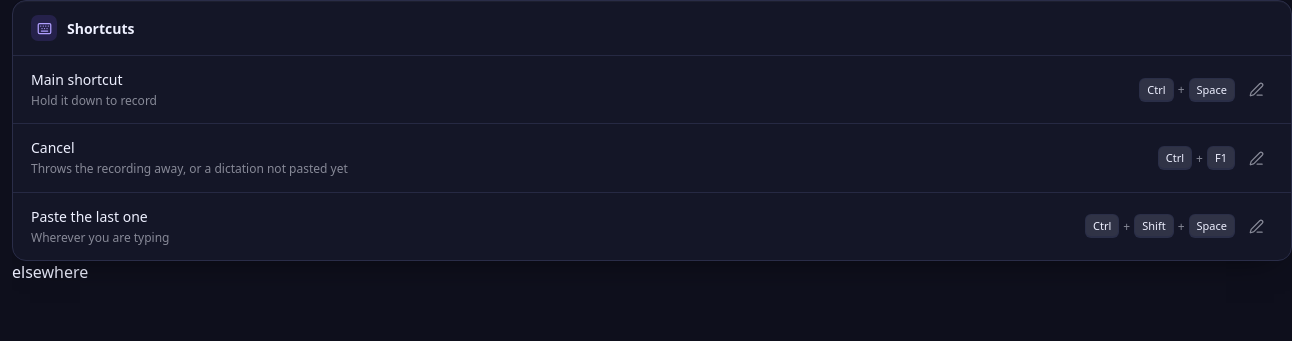
Test: ShortcutsSection › turns the shortcuts back on when Escape cancels the edit
The image size is (1292, 341).
Click the button named "Edit" at x=1256, y=90, box [1239, 73, 1273, 107]
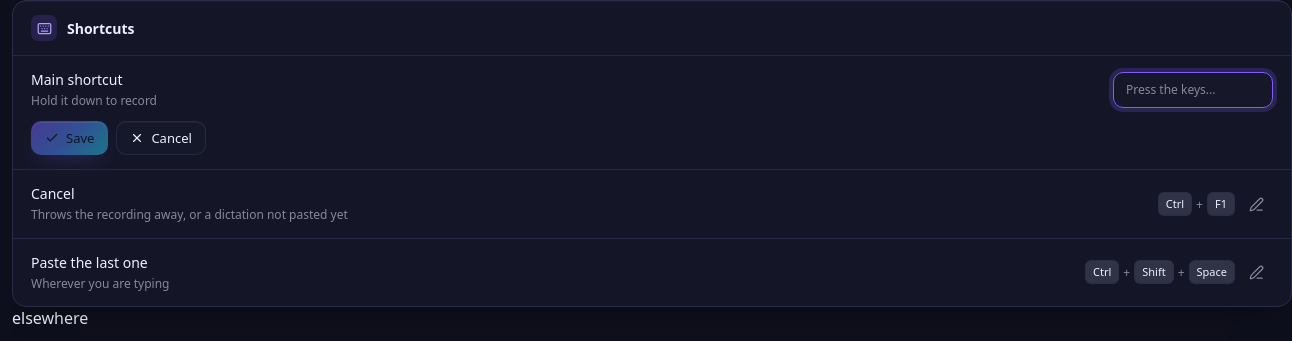
Press Escape
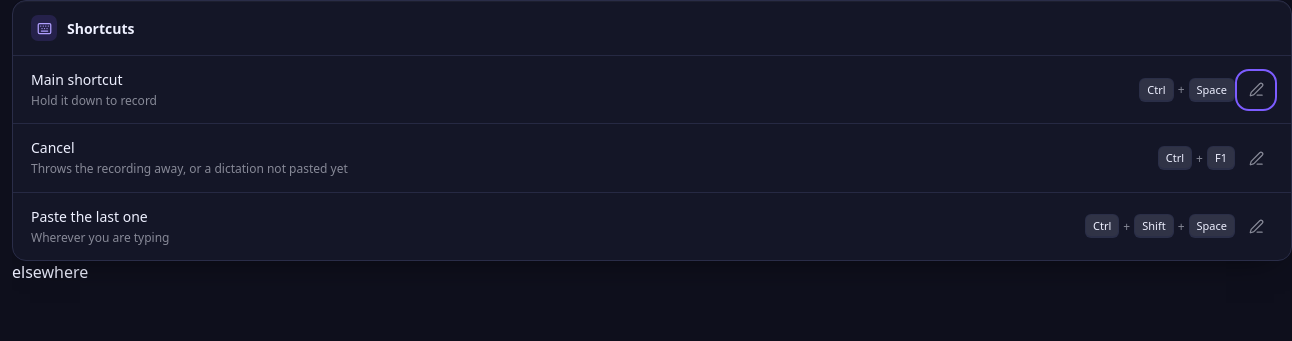
Expected: the text "Press the keys..." is gone
